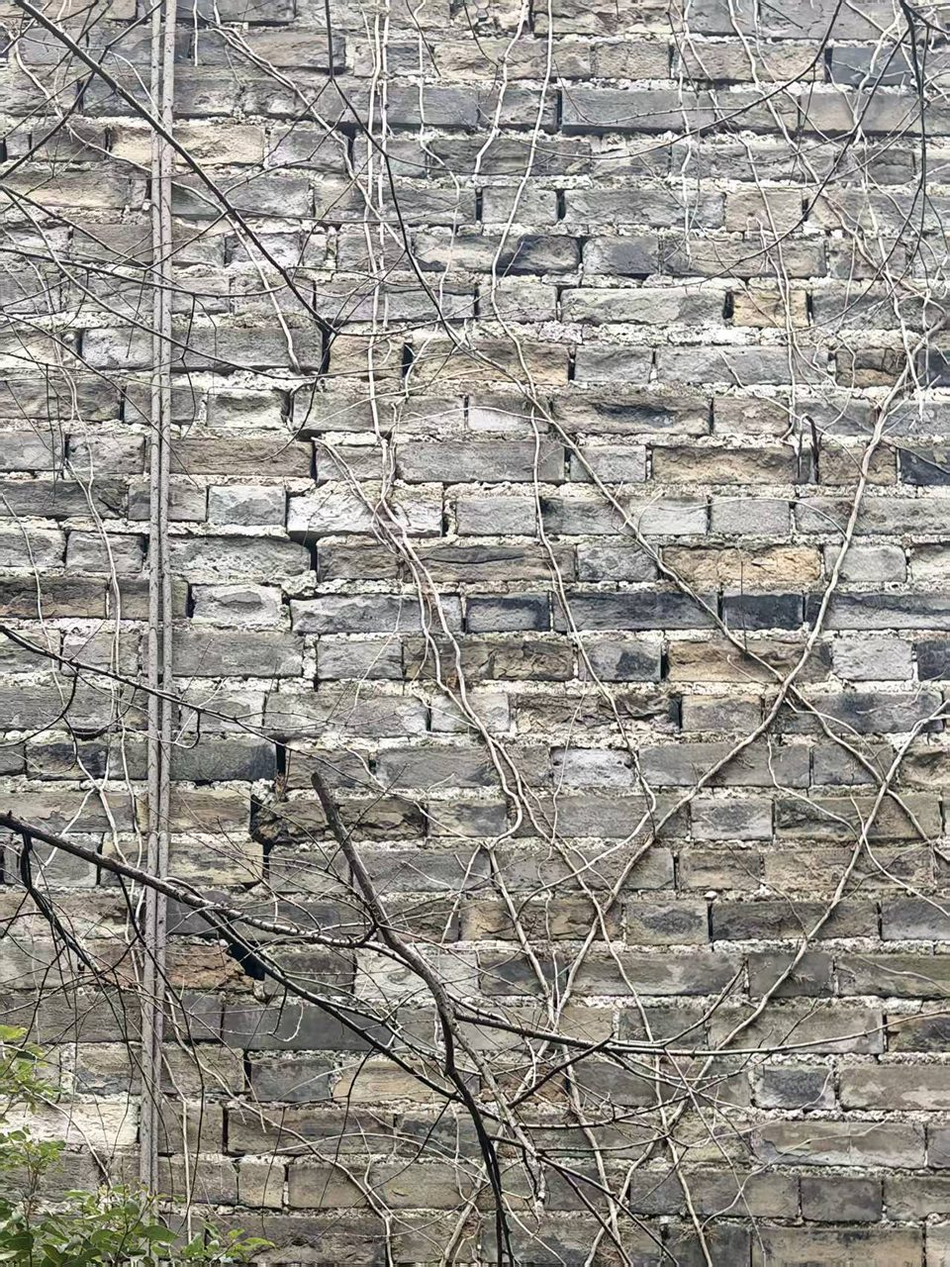crack: (242, 259, 341, 860)
